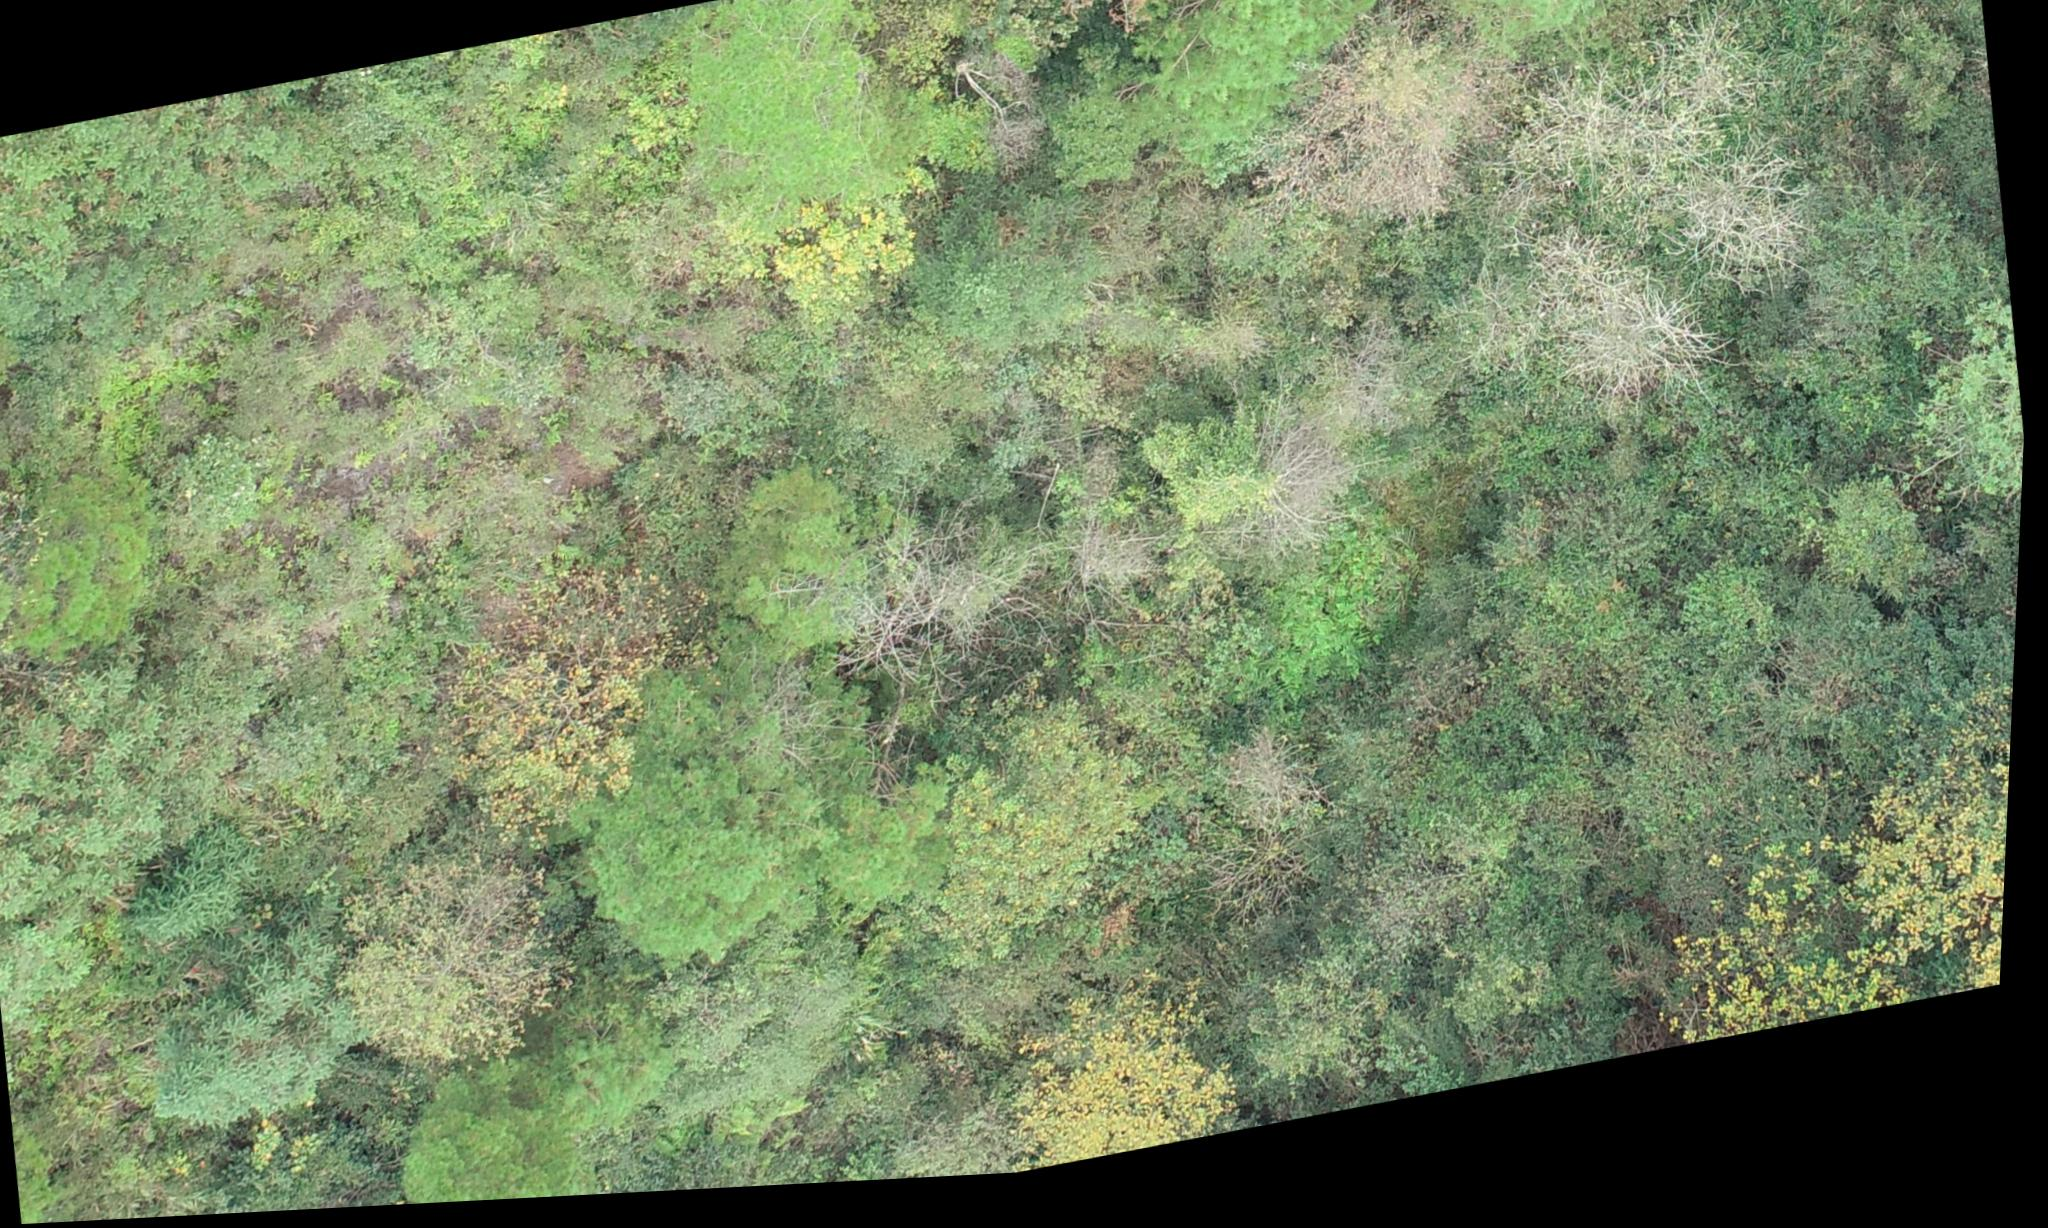dead: (1493, 38, 1909, 444)
heavy: (1054, 0, 1251, 60)
light: (336, 823, 596, 1124)
